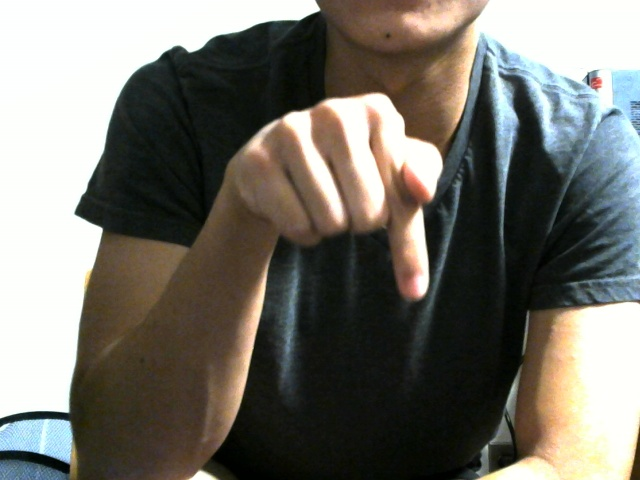down: (169, 56, 478, 337)
